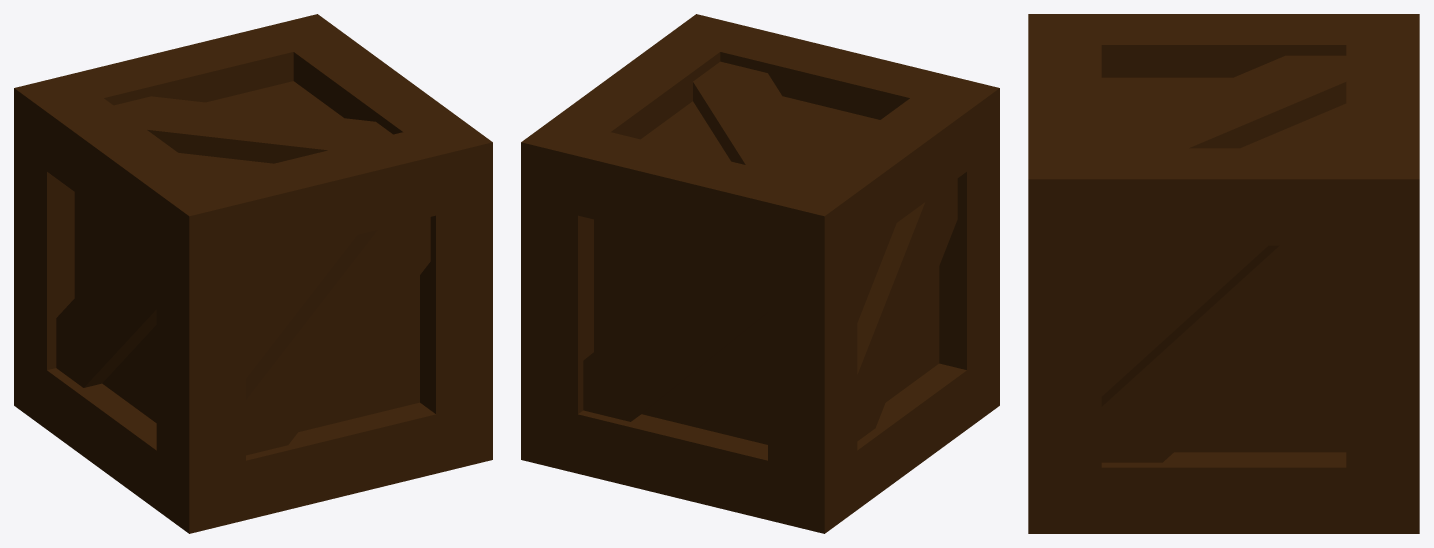
File: Boxes.fbx
3 renders of one model, left to right at view 1: azimuth 30°, elevation 25°; view 2: azimuth 150°, elevation 25°; view 3: azimuth 270°, elevation 25°, orthographic. The views are drawn at different scales.
Visible parts, largest first — view 1: Cube; view 2: Cube; view 3: Cube.
Boxes of the visible parts, left/top/right/bottom form: Cube: left=14, top=14, right=492, bottom=533; Cube: left=521, top=14, right=999, bottom=533; Cube: left=1028, top=14, right=1419, bottom=533.
Size of the model in its own units: 327 by 327 by 327.
